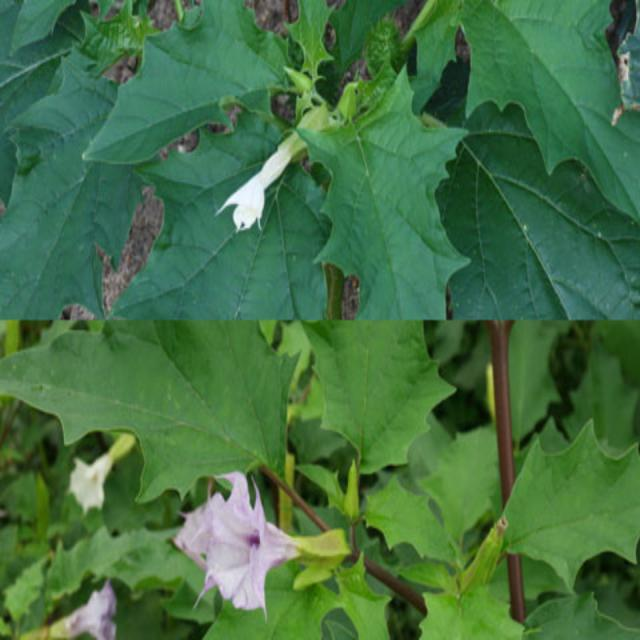Poisonous-Datura_Stramonium: (433, 1, 640, 308), (167, 81, 428, 248), (163, 449, 392, 637), (44, 426, 166, 564)
